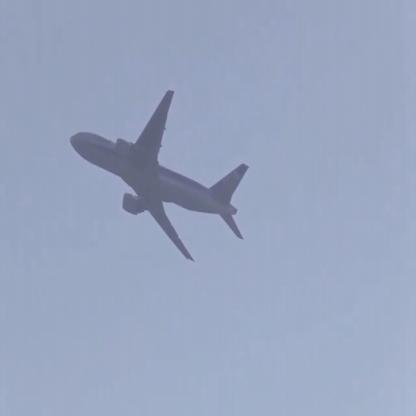CIV_Plane: (68, 92, 256, 262)
